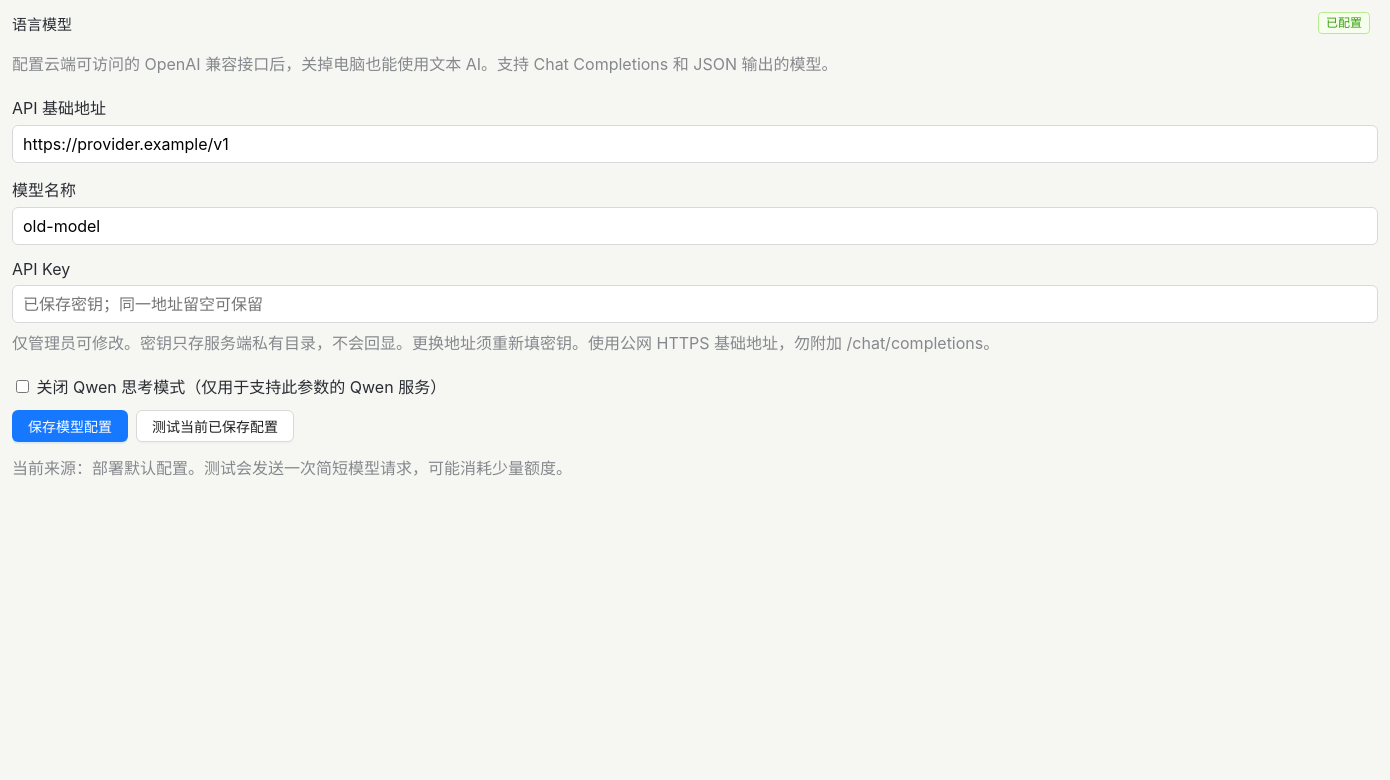
测试失败有明确反馈，保留配置供修正
Expected: the field showing "old-model" is shown, [12,207,1378,245]
Click the button "测试当前已保存配置": {"x": 215, "y": 426} [136,410,294,442]
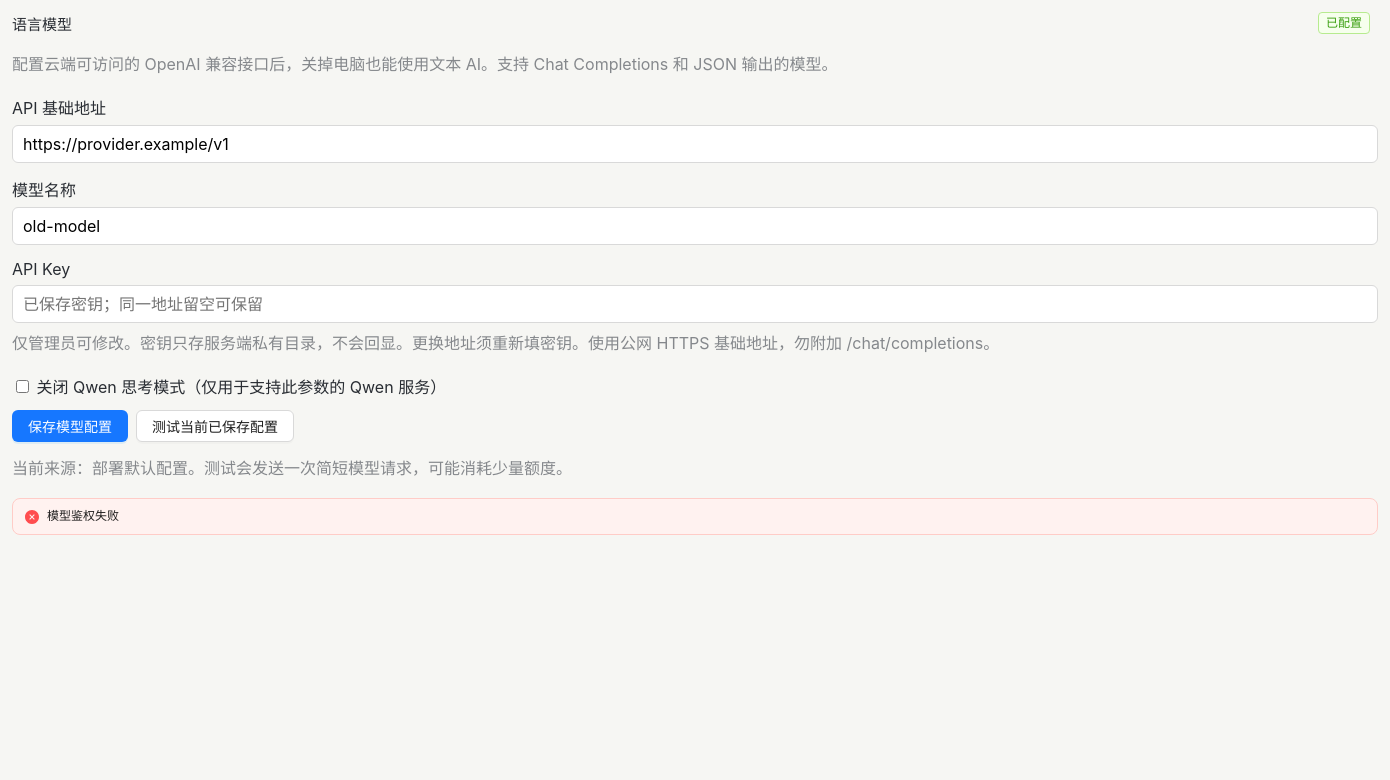
Expected: the text "模型鉴权失败" is shown, [47,508,119,523]
